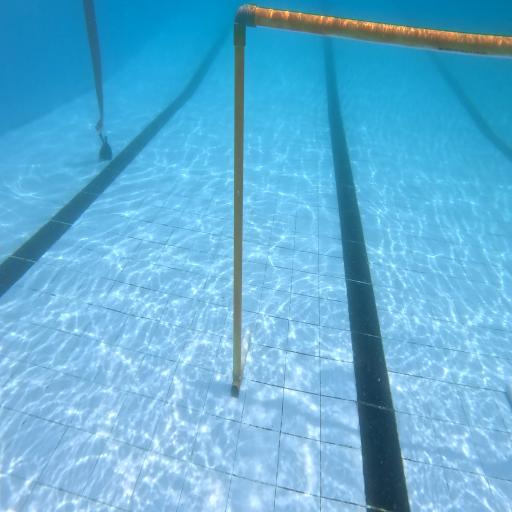gate: (231, 4, 512, 432)
